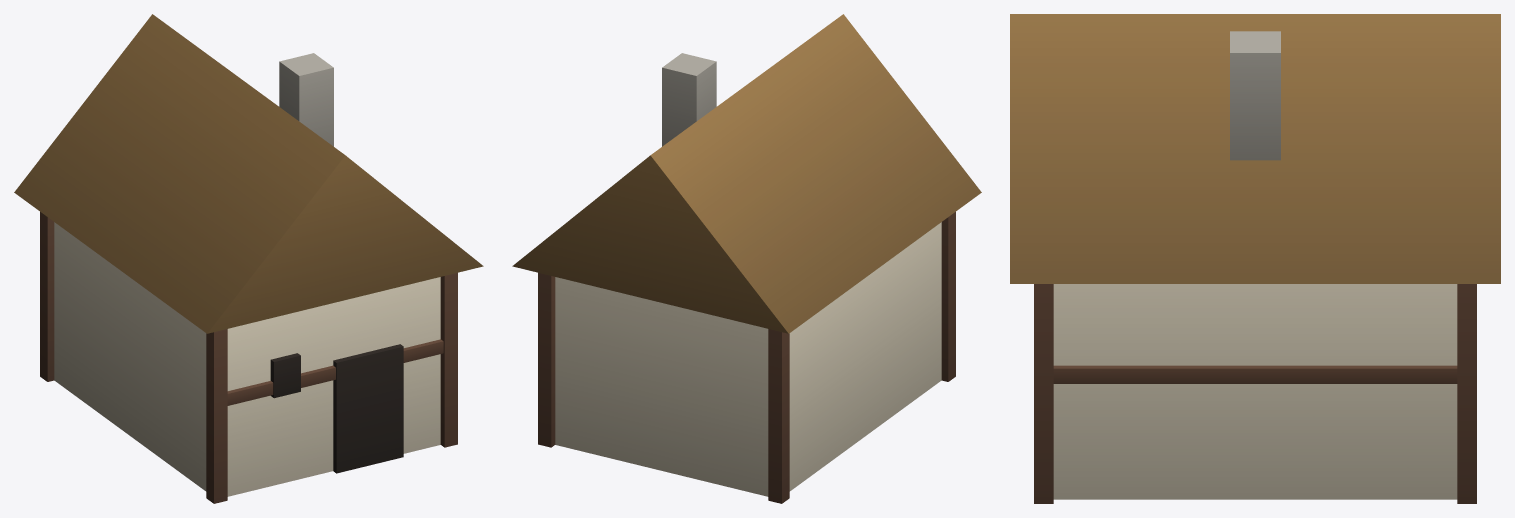
The model's file is house_NE_3a.glb.
3 renders of one model, left to right at view 1: azimuth 30°, elevation 25°; view 2: azimuth 150°, elevation 25°; view 3: azimuth 270°, elevation 25°, orthographic. The views are drawn at different scales.
Visible parts, largest first — view 1: Body; view 2: Body; view 3: Body.
Part boxes in pixels (x1,y1,x2,y2): Body: (14,14,483,503); Body: (512,14,981,503); Body: (1010,14,1500,503).
Bounding box in the file's own units: 1.44 × 1.65 × 1.74.
Materials: 1 (1 with a texture image).
